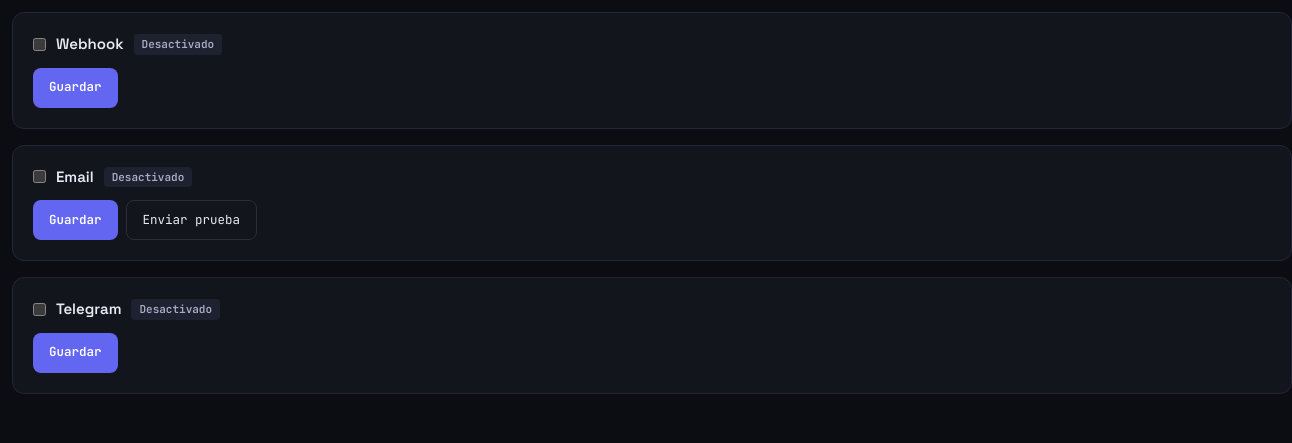
ConfiguracionNotificaciones › muestra el error si guardar el email falla en el servidor
The image size is (1292, 443).
Click the button "Guardar" below "Email". click: (75,220)
box: [33,200,118,240]
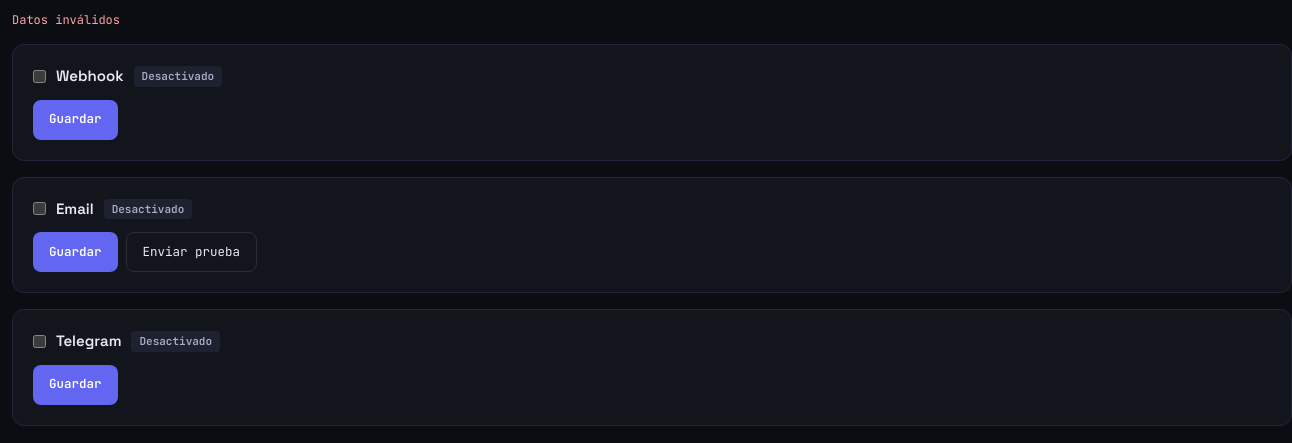
expect the text "Datos inválidos" is shown: met, box [12,12,120,28]
